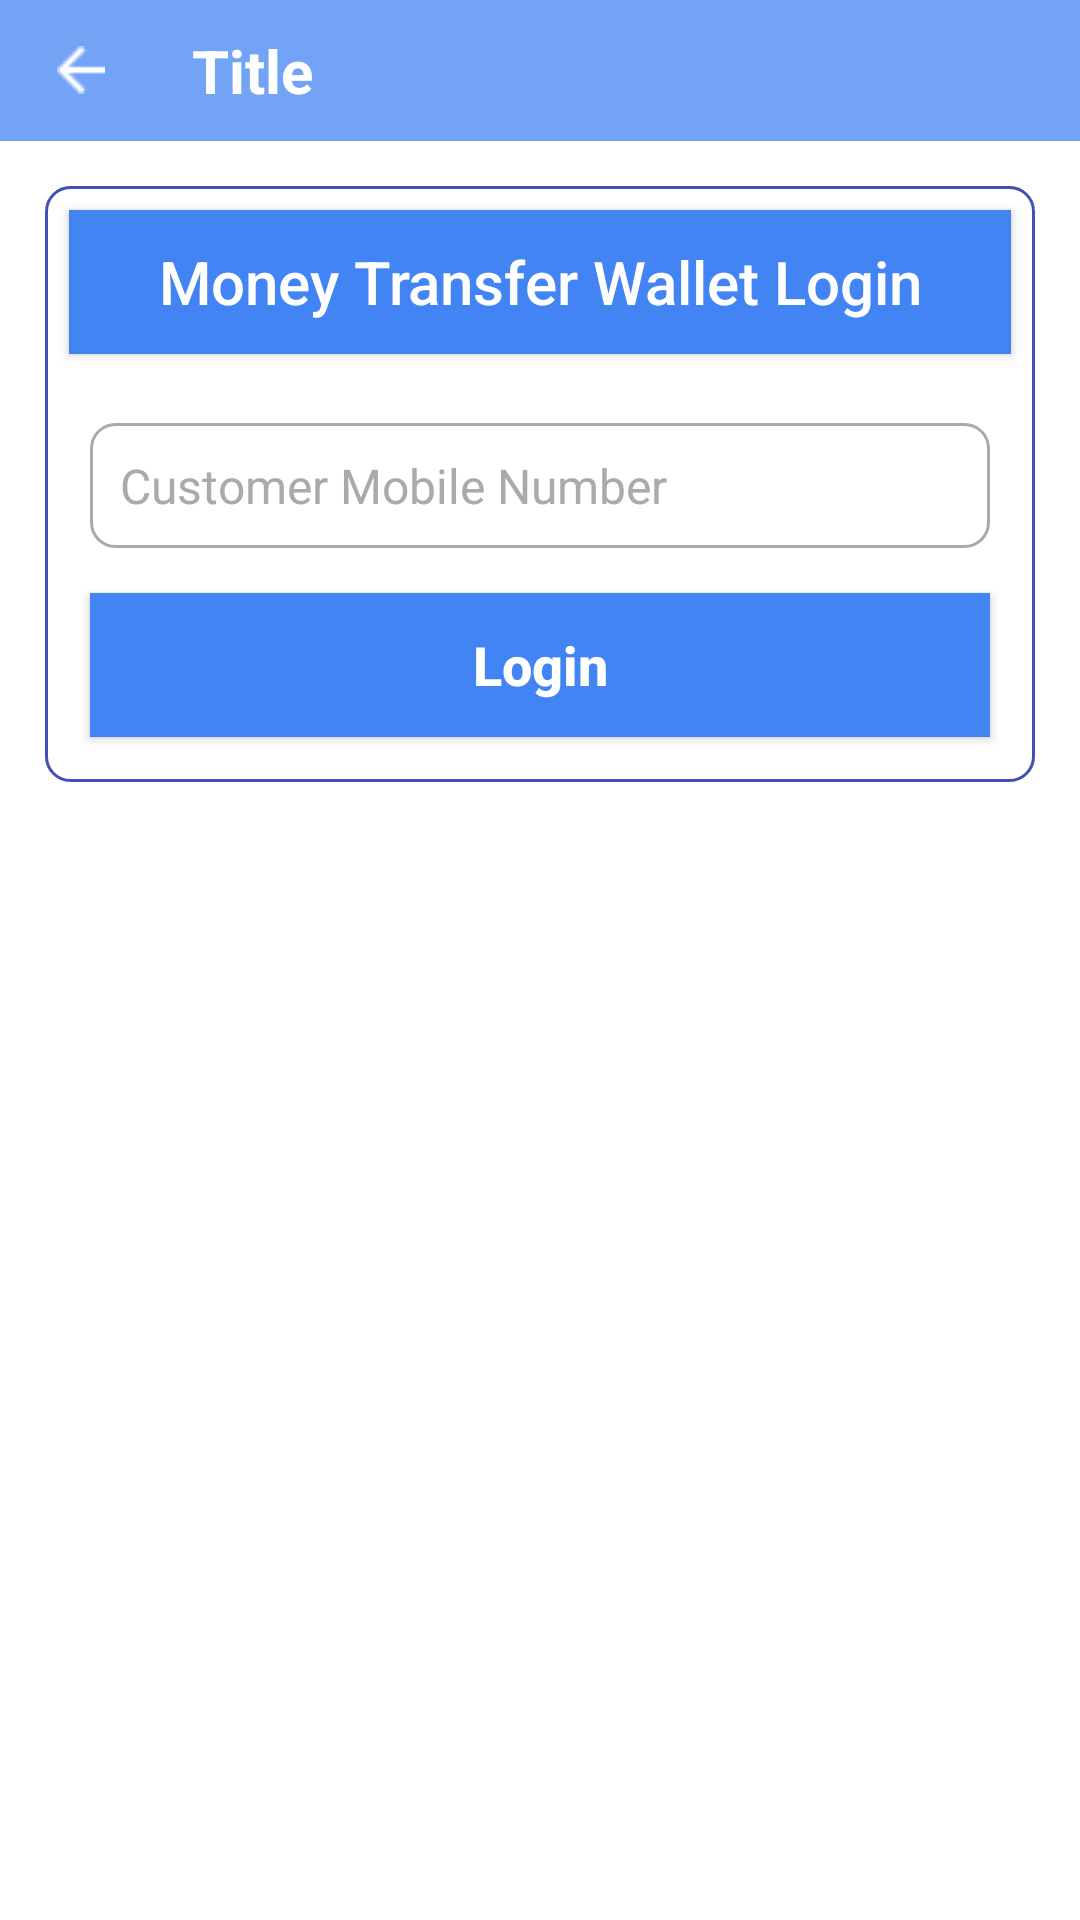

Where icons sit on this 1080*1920 app screen, as (x1, y1, x2, y2):
back: (57, 46, 105, 94)
